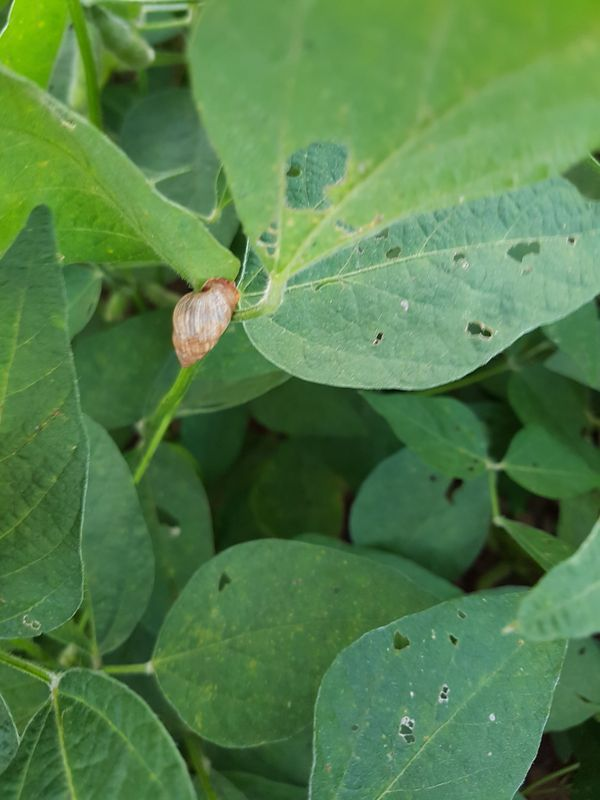Gastropoda: (157, 269, 255, 384)
